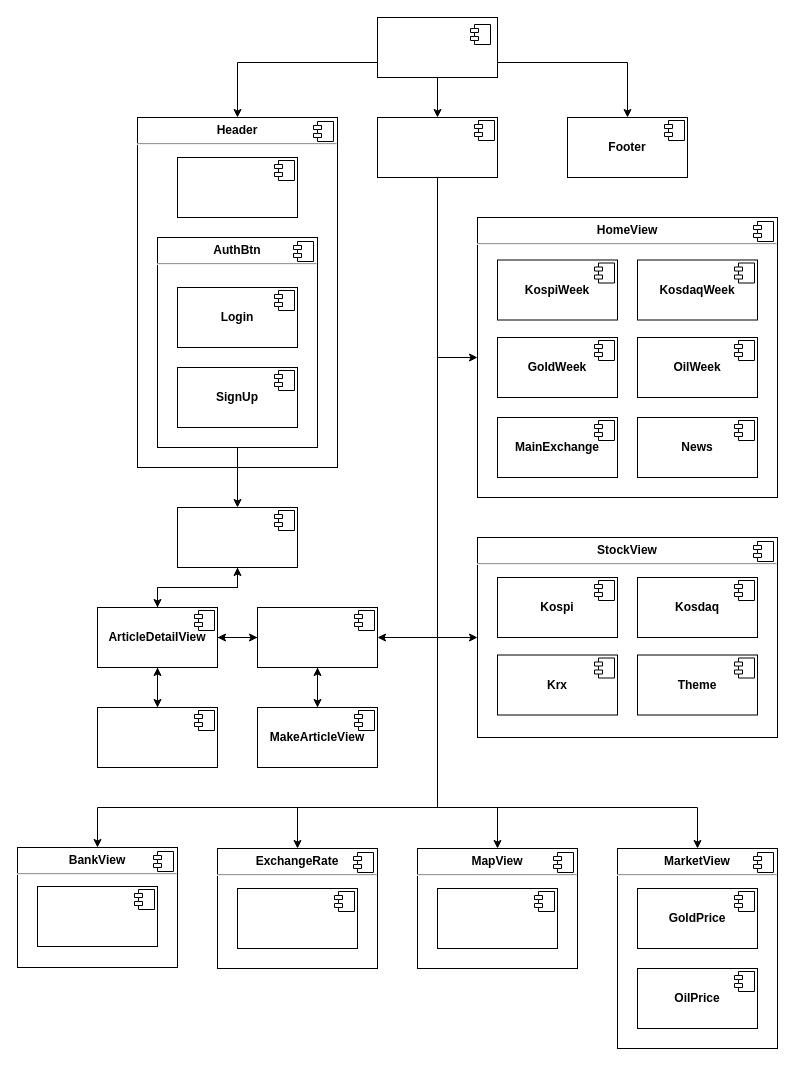
Some shapes in this 795 by 1066 pixel diagram are drawn without their labels. The shapes that lost their labels are listed below. From the top down, each one's centre as x and y in pixels, then its label:
At point 437,47: "App".
At point 437,147: "RouterView".
At point 237,187: "DarkModeSwitch".
At point 237,537: "UserInfoView".
At point 317,637: "ArticleView".
At point 157,737: "PutArticleView".
At point 97,916: "BankList".
At point 297,918: "Exchange".
At point 497,918: "MapBankList".
